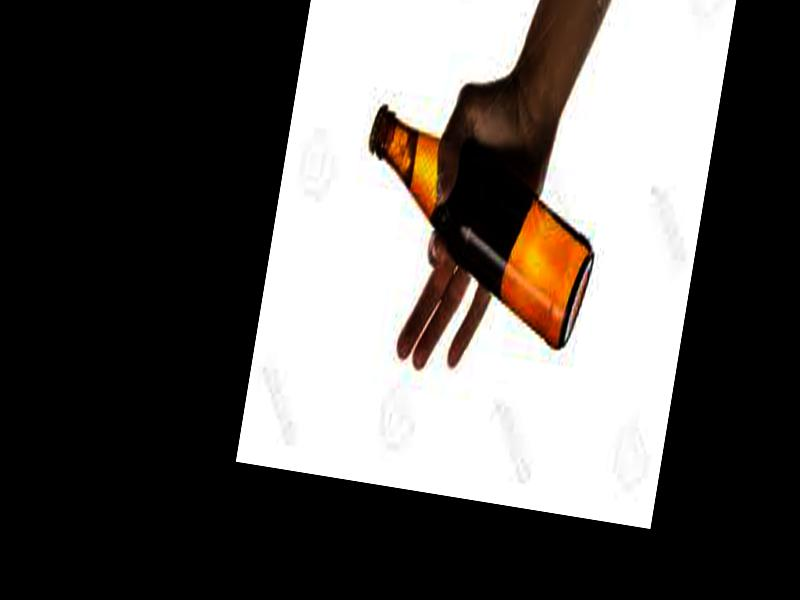Beer: (347, 109, 610, 346)
